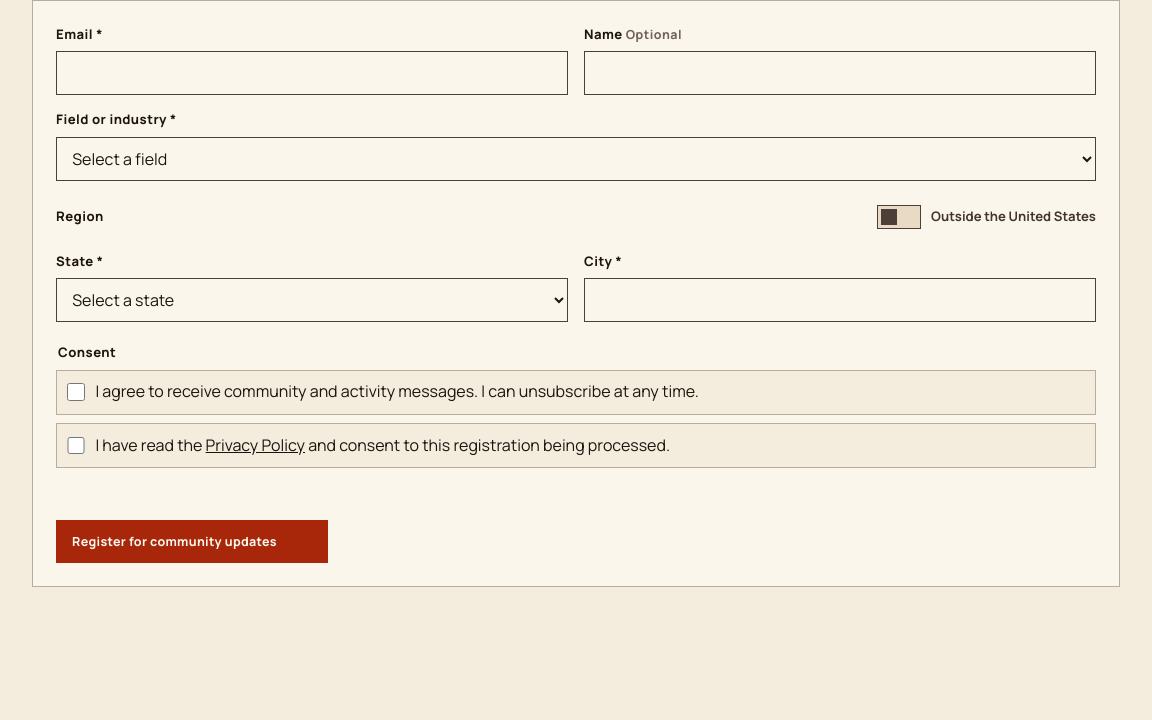
Test: public community forms › preserves participant entries when submission fails
Type "person@example.org" into the field labelled "Email *".
click(312, 73); type("person@example.org")  # box top-left (56, 51), bottom-right (568, 95)
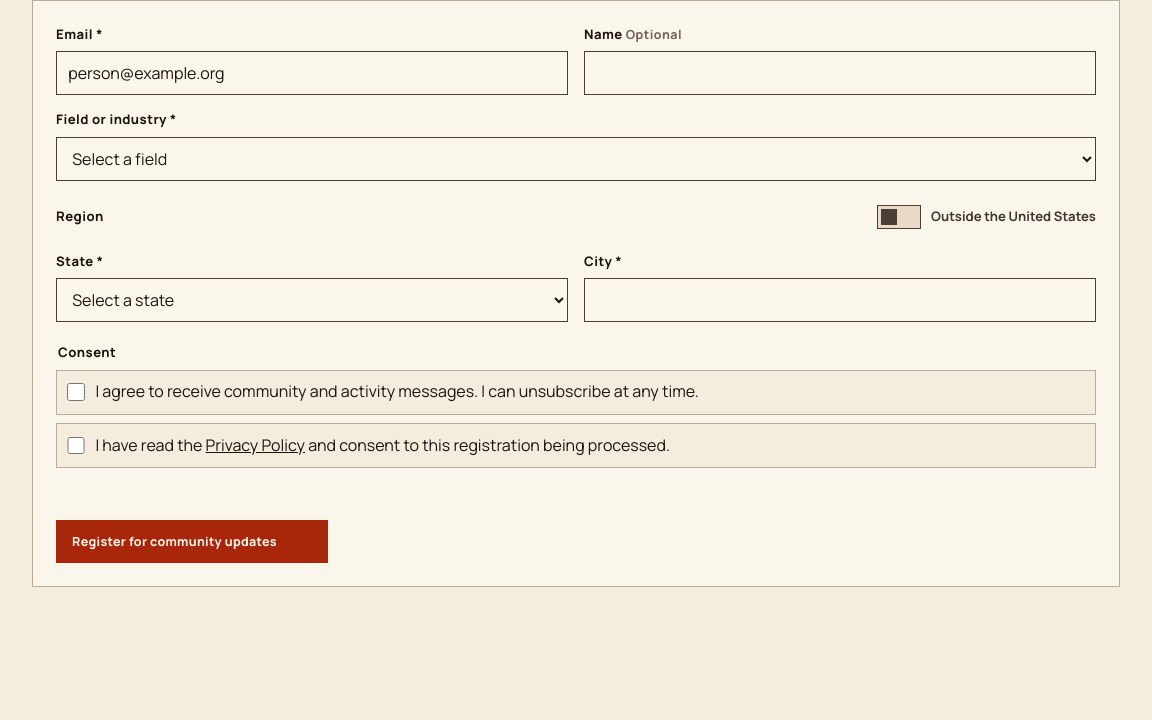
Select "Education" in the dropdown labelled "Field or industry *" at (576, 159), box top-left (56, 137), bottom-right (1096, 181)
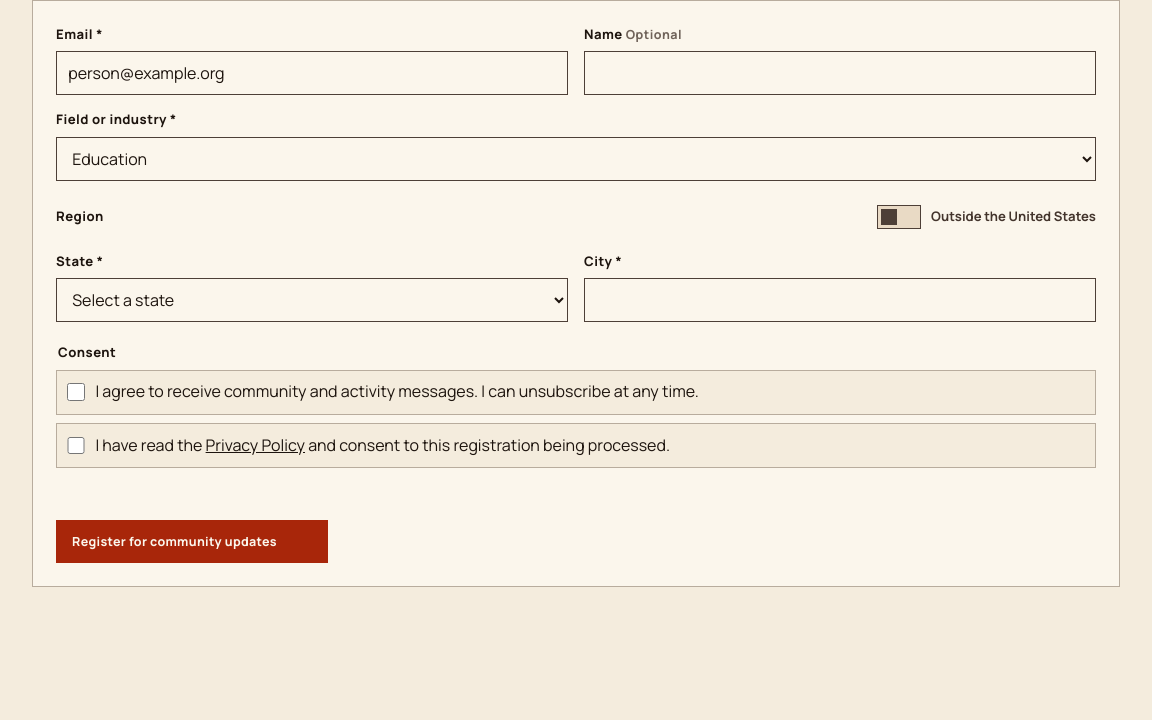
Select "California" in the dropdown labelled "State *" at (312, 300), box top-left (56, 278), bottom-right (568, 322)
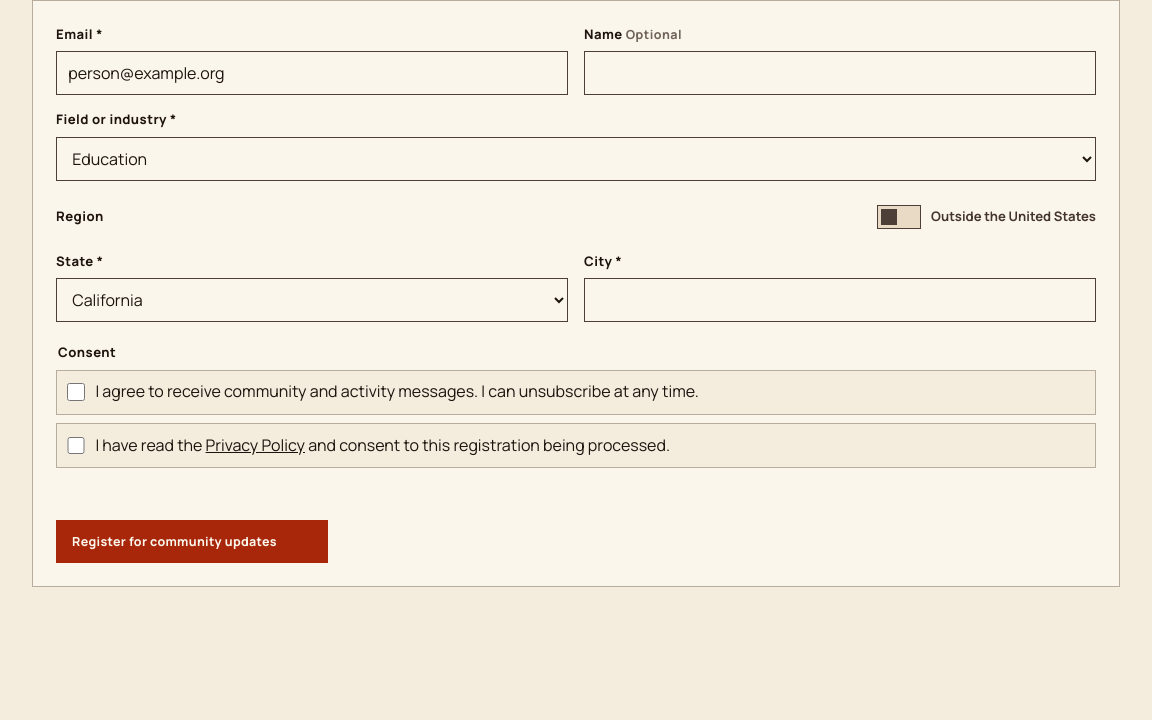
Type "Oakland" into the field labelled "City *".
click(840, 300); type("Oakland")  # box top-left (584, 278), bottom-right (1096, 322)
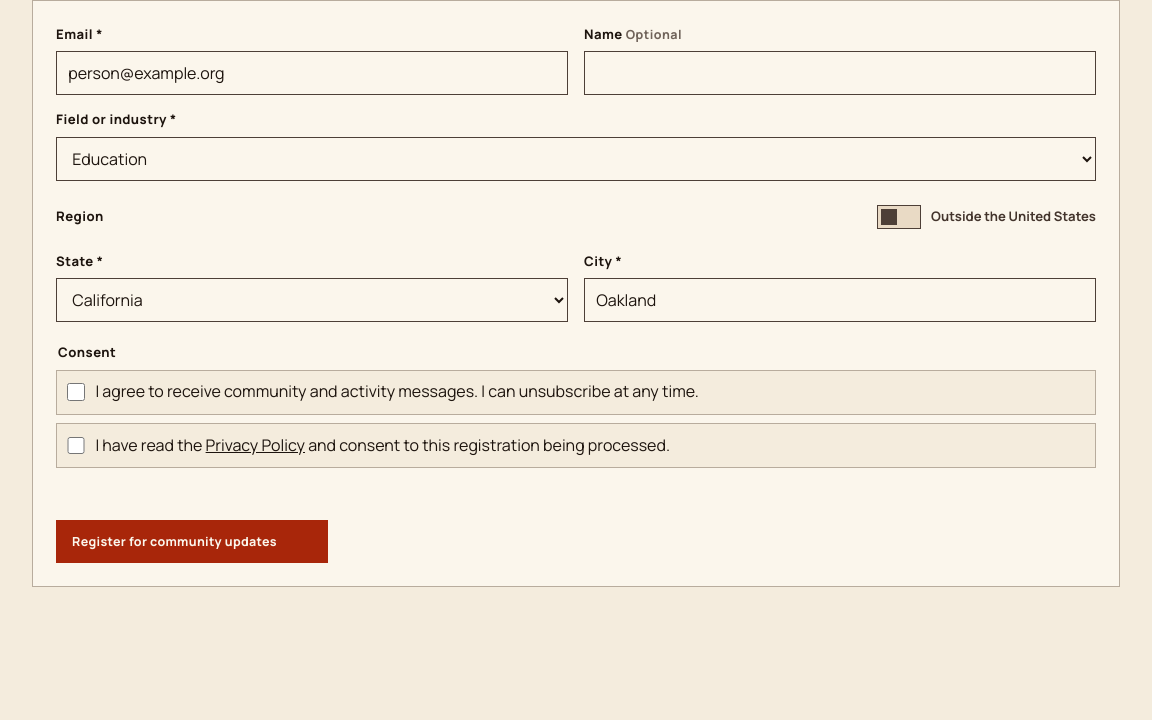
Click the checkbox labelled "community and activity messages".
click(76, 392)  # box top-left (67, 383), bottom-right (85, 401)
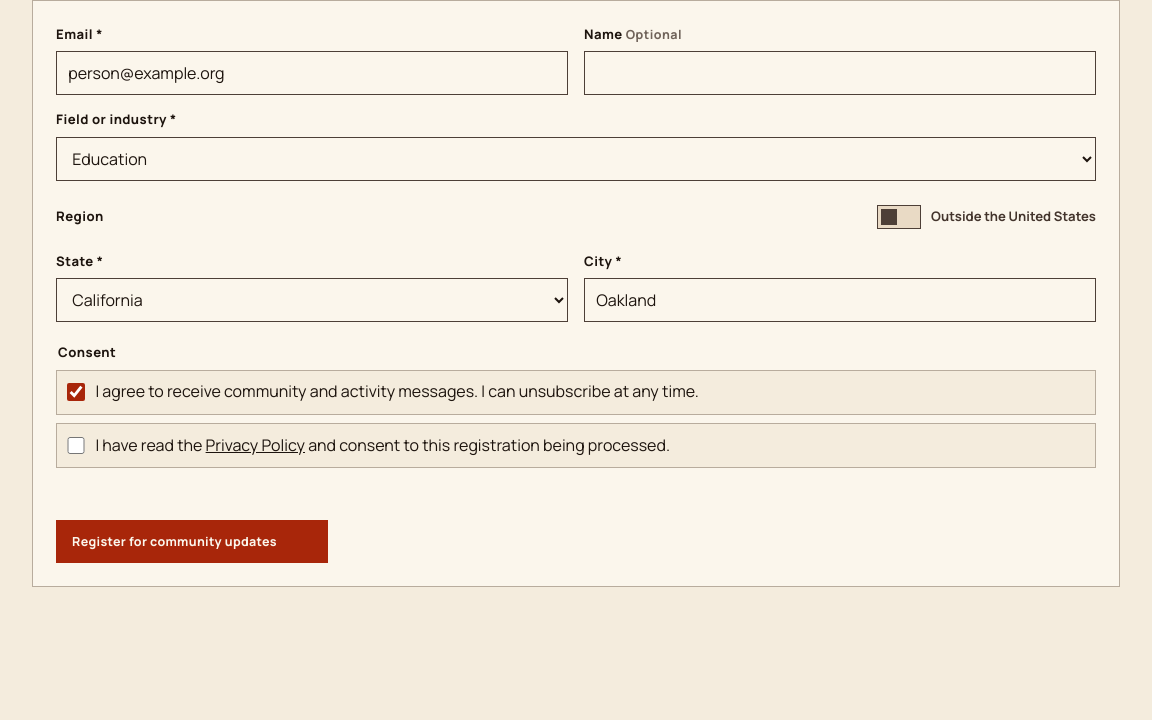
Submit the form
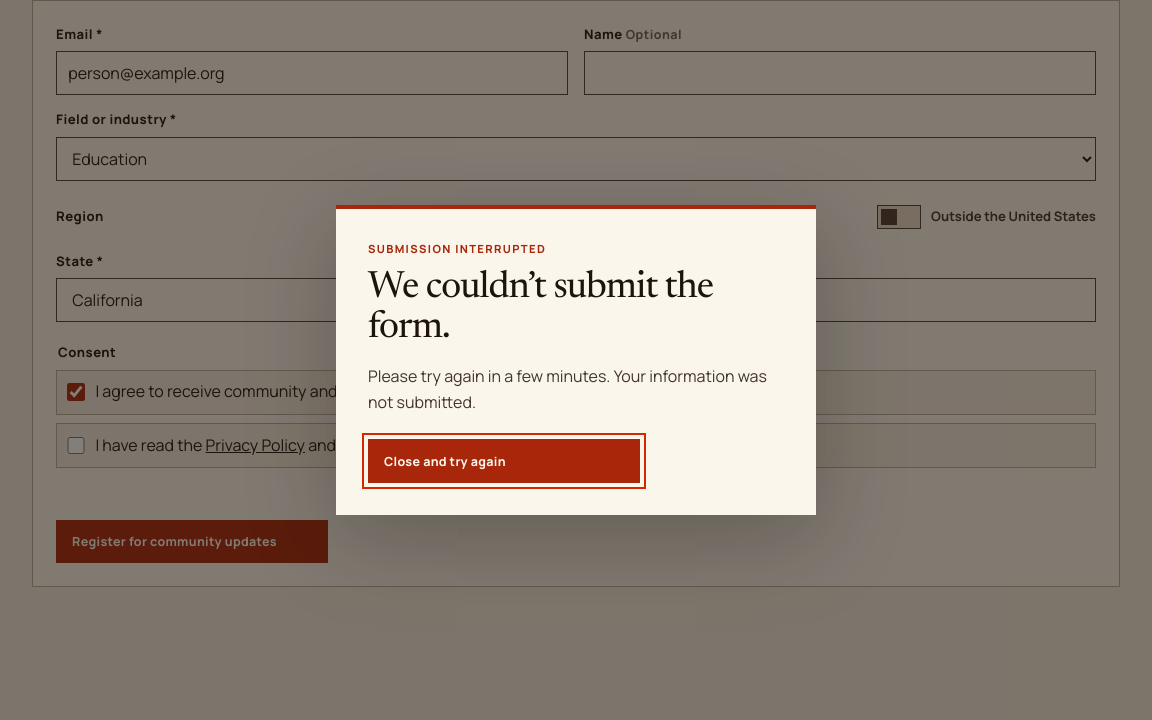
Expected: the checkbox labelled "community and activity messages" is checked, top-left (67, 383), bottom-right (85, 401)
Expected: the dialog is shown, top-left (336, 205), bottom-right (816, 515)
